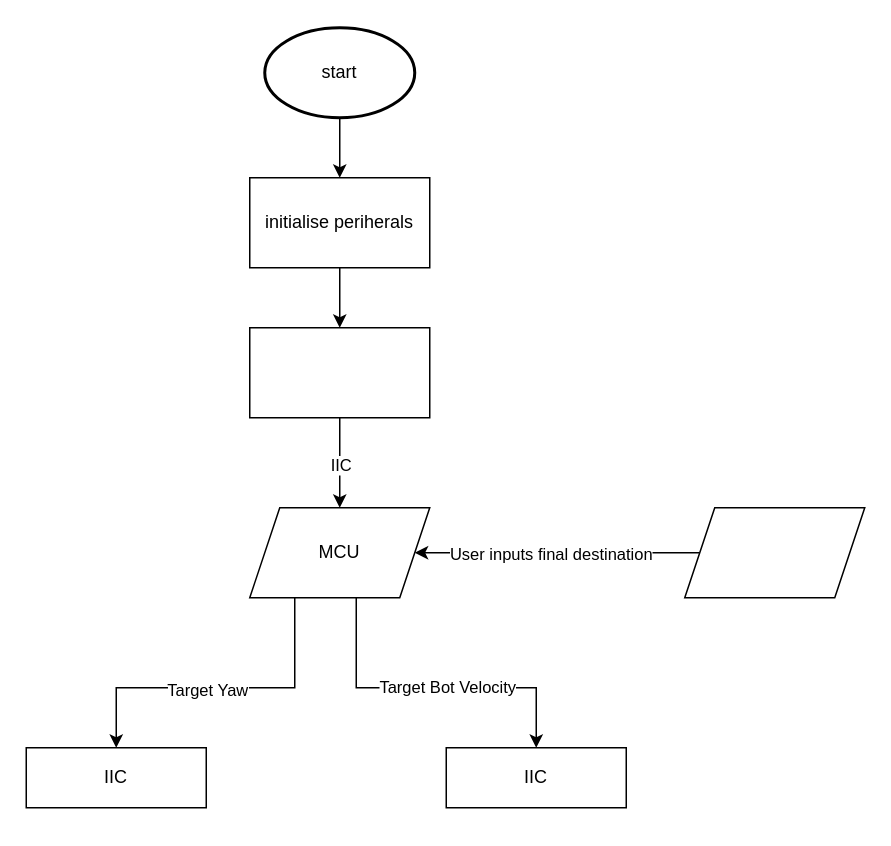
This 891x846 diagram has some shape labels left out. The box of each missing label's shape, as (x1, y1, x2, y2) in pixels:
IR sensor scans black line: (248, 326, 430, 418)
WiFi: (683, 506, 865, 598)
